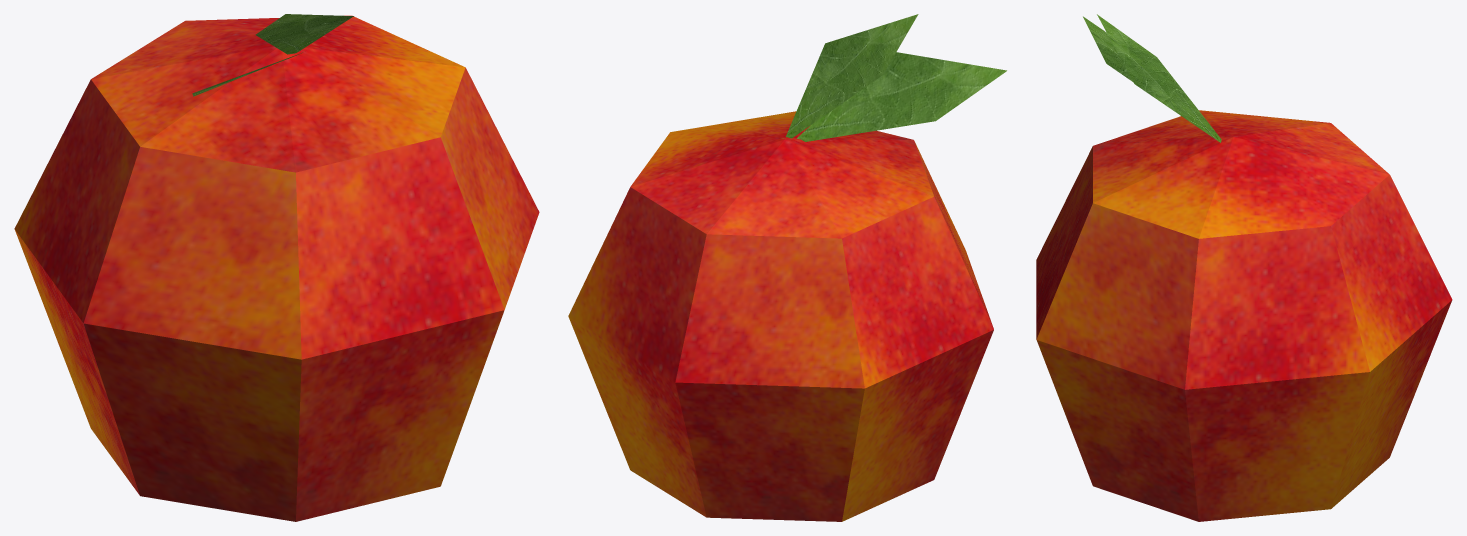
The model's file is peach.gltf.
3 renders of one model, left to right at view 1: azimuth 30°, elevation 25°; view 2: azimuth 150°, elevation 25°; view 3: azimuth 270°, elevation 25°, orthographic. The views are drawn at different scales.
Parts seen in each view (by area): view 1: Peach, LeafTop; view 2: Peach, LeafUnder, LeafTop; view 3: Peach, LeafTop, LeafUnder.
Part boxes in pixels (bbox=[...]): Peach: bbox=[14, 15, 539, 521]; LeafTop: bbox=[255, 14, 353, 54]; Peach: bbox=[568, 111, 993, 521]; LeafUnder: bbox=[797, 52, 1006, 141]; LeafTop: bbox=[786, 14, 918, 138]; Peach: bbox=[1036, 110, 1452, 521]; LeafTop: bbox=[1097, 14, 1221, 142]; LeafUnder: bbox=[1083, 16, 1132, 81].
Bounding box in the file's own units: 1.29 × 1.5 × 1.26.
3 materials, 3 textured.
